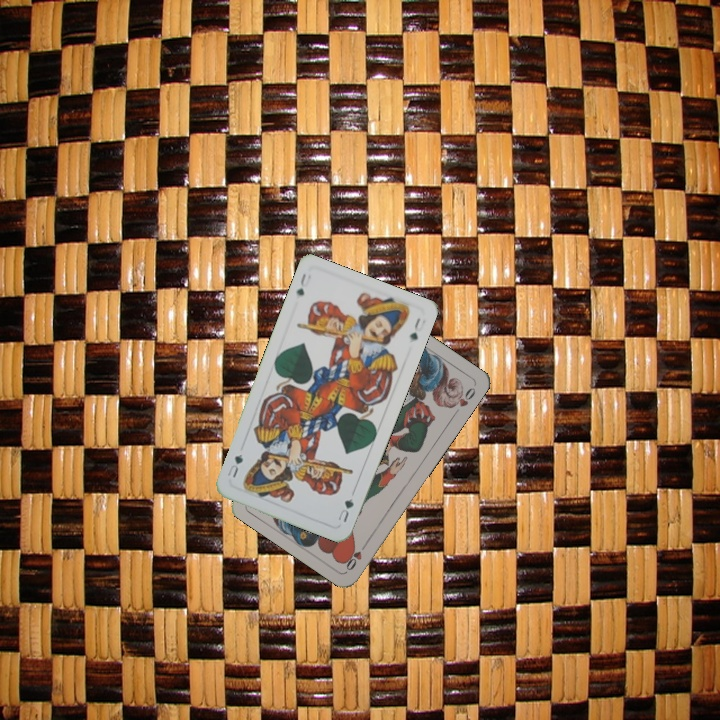GU: (333, 494, 356, 525), (292, 269, 314, 299)
HO: (341, 538, 370, 573)
